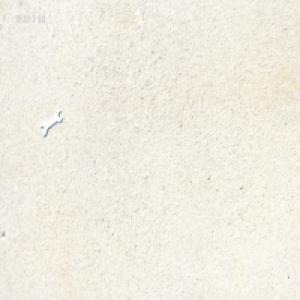Wrench: (38, 107, 61, 138)
